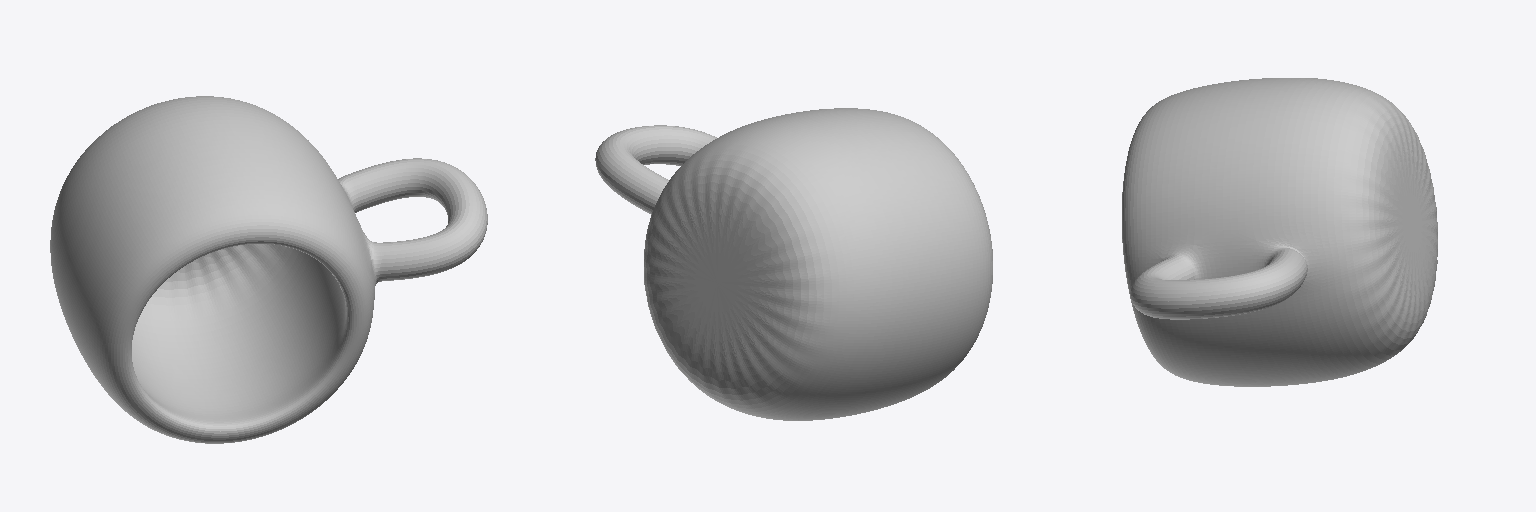
Rendered from cup2.obj.
3 views of the same model, side by side, from view 1: azimuth 30°, elevation 25°; view 2: azimuth 150°, elevation 25°; view 3: azimuth 270°, elevation 25° (orthographic).
Visible parts, largest first — view 1: NurbsPath_Mesh; view 2: NurbsPath_Mesh; view 3: NurbsPath_Mesh.
Part boxes in pixels (x1,y1,x2,y2): NurbsPath_Mesh: (50, 96, 487, 443); NurbsPath_Mesh: (595, 108, 992, 420); NurbsPath_Mesh: (1122, 78, 1437, 386).
Bounding box in the file's own units: 0.2953 × 0.215 × 0.2141.